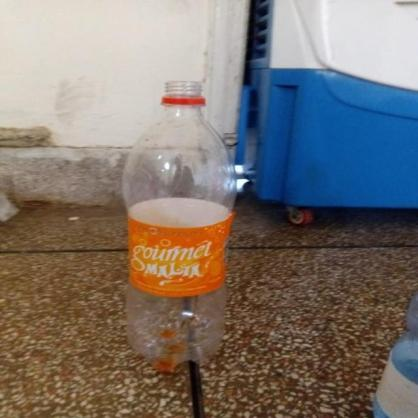bottle: (115, 77, 246, 378)
label: (125, 208, 234, 304)
